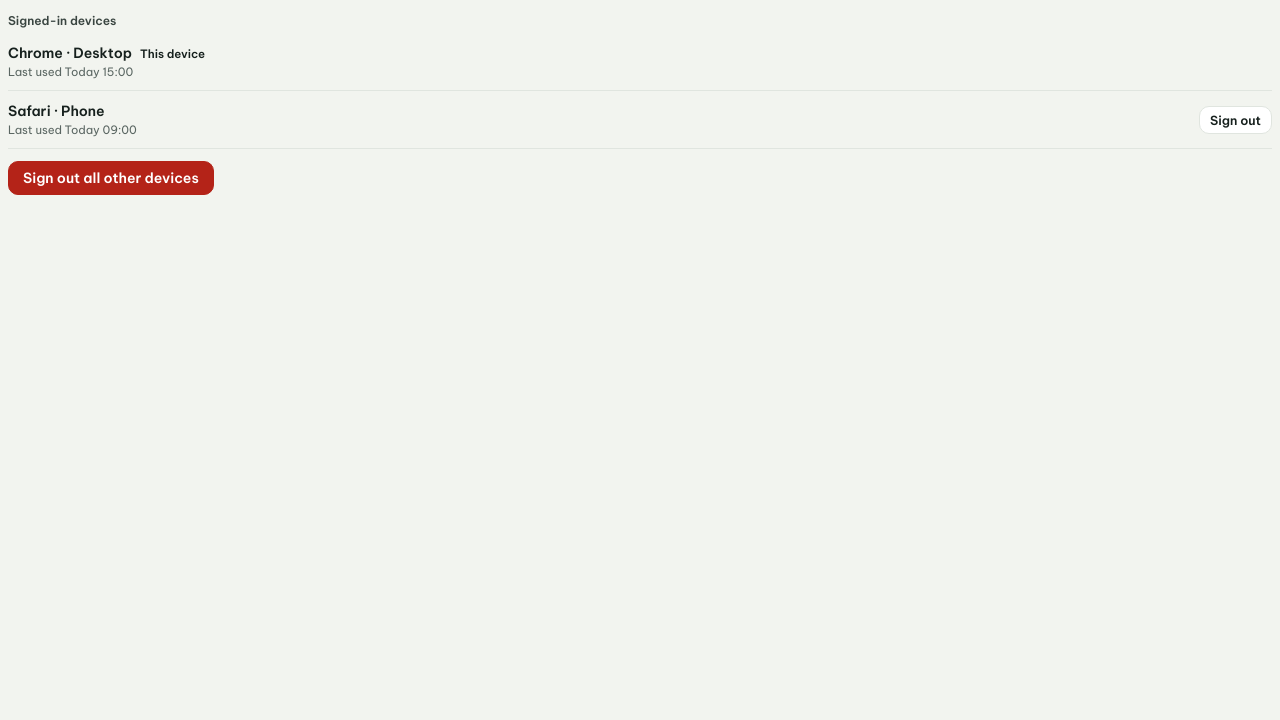
Test: offline (R20) › the confirmation for all other devices calls nothing while offline
Click the button "Sign out all other devices" at [111, 178], box left=8, top=161, right=214, bottom=195
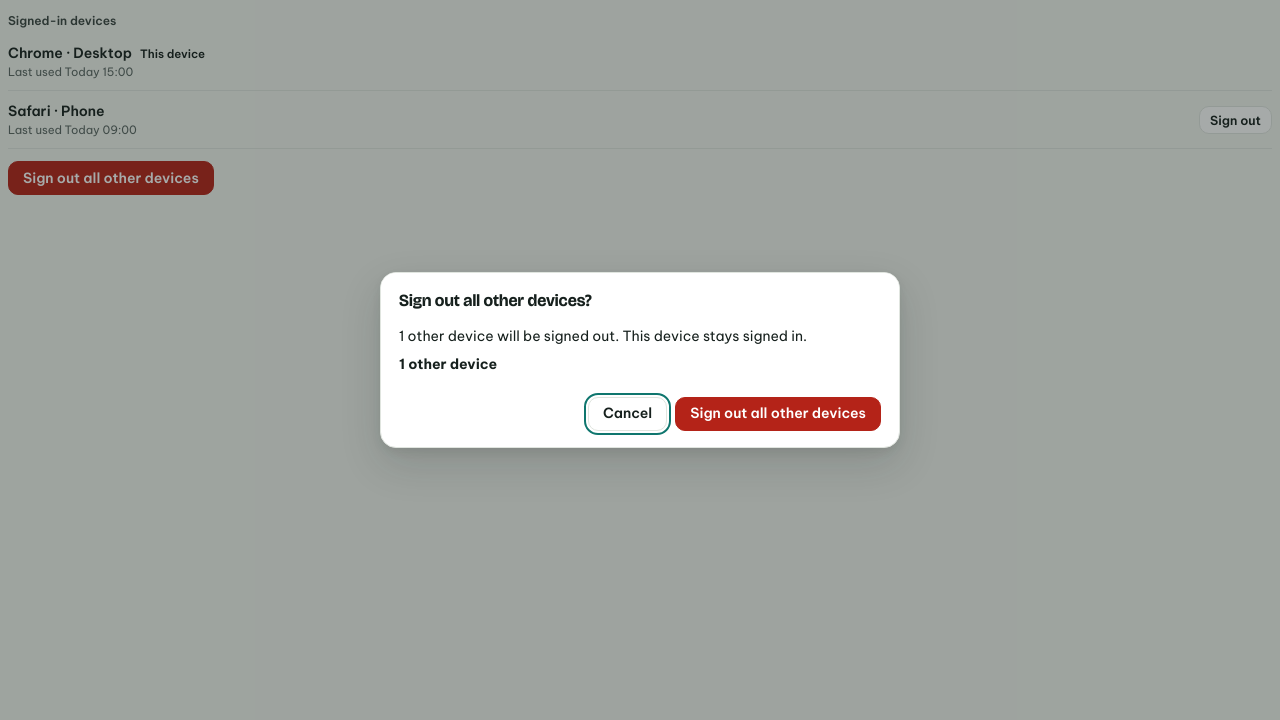
Click the button "Sign out all other devices" at [778, 414], box left=675, top=397, right=881, bottom=431
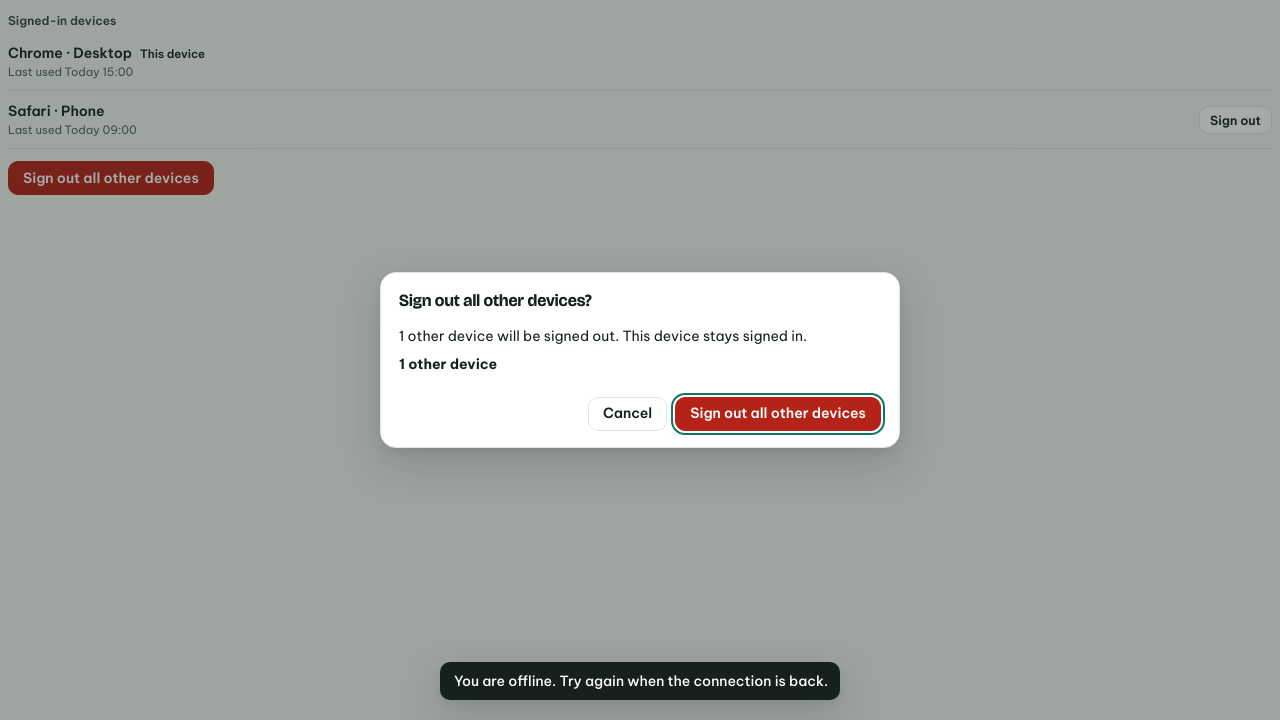
Result: the dialog is shown at left=380, top=272, right=900, bottom=448
Result: the text "You are offline. Try again when the connection is back." is shown at left=454, top=671, right=828, bottom=691
